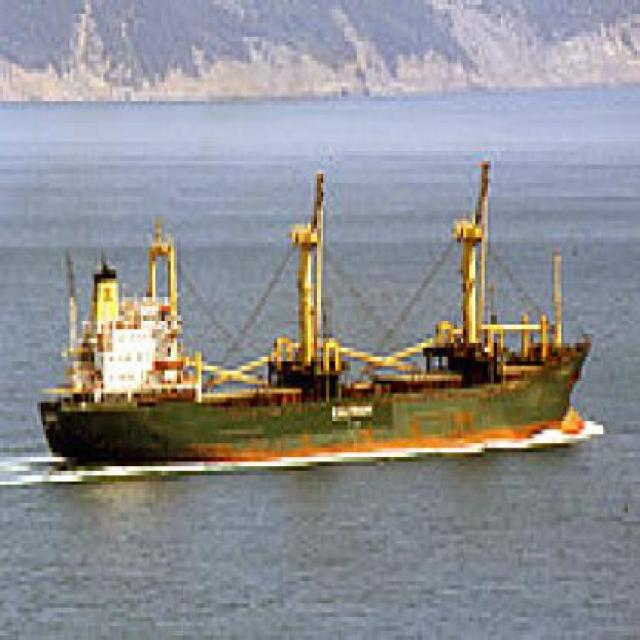container: (29, 147, 601, 490)
